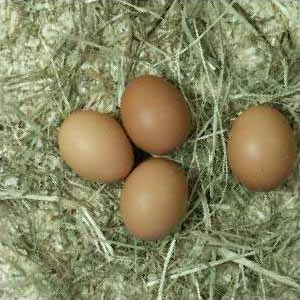egg: (227, 104, 296, 193), (120, 158, 189, 243), (57, 110, 134, 184), (121, 75, 193, 154)
